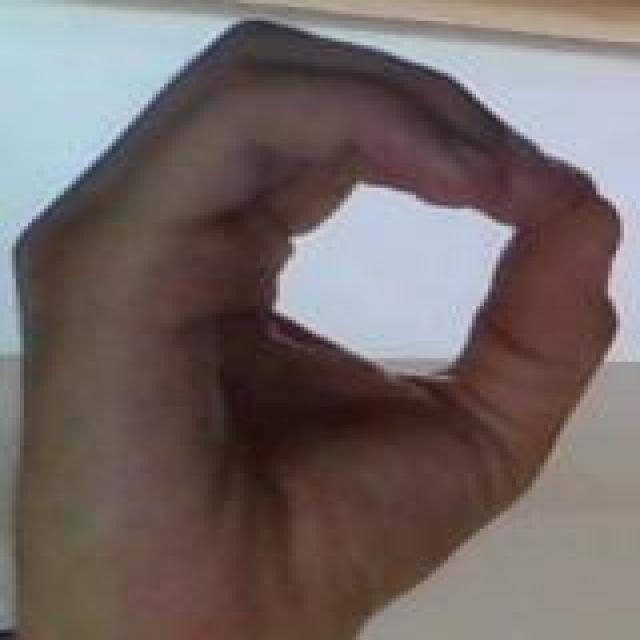O: (16, 7, 640, 640)
